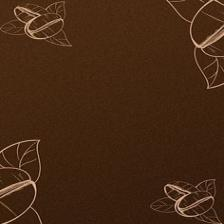brown: (1, 0, 224, 224)
